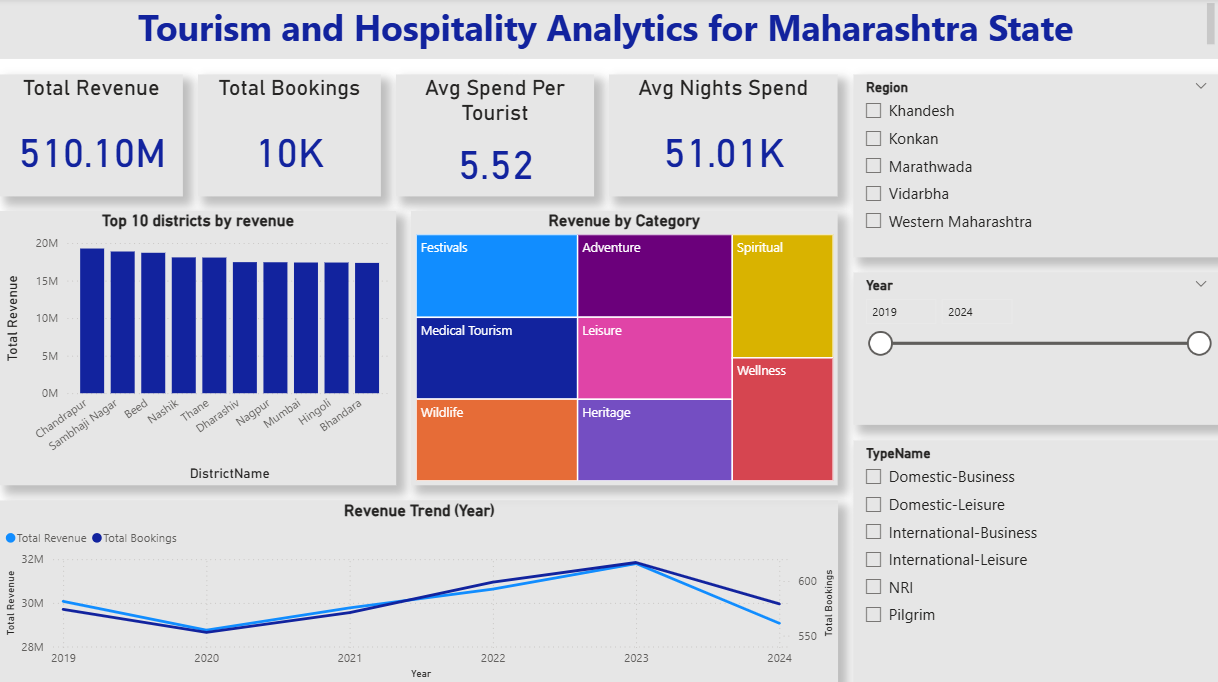

The page's visual inventory and layout, read from the dashboard file:
{"tool":"powerbi","page":{"name":"Main Page","canvas":[1280,720],"ordinal":0},"visuals":[{"type":"textbox","box":[0,0,1280,64],"z":0},{"type":"card","title":"Total Revenue","fields":{"Values":["TourismRevenueFact.Total Revenue"]},"box":[0,80,192,128],"z":1000},{"type":"card","title":"Total Bookings","fields":{"Values":["TourismRevenueFact.Total Bookings"]},"box":[208,80,192,128],"z":2000},{"type":"card","title":"Avg Spend Per Tourist","fields":{"Values":["TourismRevenueFact.Avg Nights Stayed"]},"box":[416,80,208,128],"z":3000},{"type":"card","title":"Avg Nights Spend","fields":{"Values":["TourismRevenueFact.Avg Spend per Tourist"]},"box":[640,80,240,128],"z":4000},{"type":"columnChart","title":"Top 10 districts by revenue","fields":{"Category":["DistrictDim.DistrictName"],"Y":["TourismRevenueFact.Total Revenue"]},"box":[0,224,416,288],"z":5000},{"type":"lineChart","title":"Revenue Trend (Year)","fields":{"Y":["TourismRevenueFact.Total Revenue"],"Category":["DateDim.Year"],"Y2":["TourismRevenueFact.Total Bookings"]},"box":[0,528,880,192],"z":6000},{"type":"treemap","title":"Revenue by Category","fields":{"Group":["CategoryDim.CategoryName"],"Values":["TourismRevenueFact.Total Revenue"]},"box":[432,224,448,288],"z":7000},{"type":"slicer","fields":{"Values":["DistrictDim.Region"]},"box":[896,80,384,192],"z":8000},{"type":"slicer","fields":{"Values":["DateDim.Year"]},"box":[896,288,384,160],"z":9000},{"type":"slicer","fields":{"Values":["TouristTypeDim.TypeName"]},"box":[896,464,384,256],"z":10000}]}

Visuals, with their boxes in screenshot pixels (x1, y1, x2, y2), scaled from the page's 1280x720 canvas onto the 1218x682 screenshot:
textbox: x1=0, y1=0, x2=1217, y2=61
"Total Revenue" card: x1=0, y1=76, x2=183, y2=197
"Total Bookings" card: x1=198, y1=76, x2=381, y2=197
"Avg Spend Per Tourist" card: x1=396, y1=76, x2=594, y2=197
"Avg Nights Spend" card: x1=609, y1=76, x2=837, y2=197
"Top 10 districts by revenue" columnChart: x1=0, y1=212, x2=396, y2=485
"Revenue Trend (Year)" lineChart: x1=0, y1=500, x2=837, y2=681
"Revenue by Category" treemap: x1=411, y1=212, x2=837, y2=485
slicer - DistrictDim.Region: x1=853, y1=76, x2=1217, y2=258
slicer - DateDim.Year: x1=853, y1=273, x2=1217, y2=424
slicer - TouristTypeDim.TypeName: x1=853, y1=440, x2=1217, y2=681
